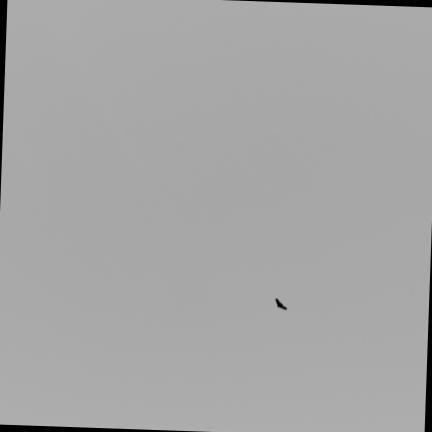Shahed: (276, 299, 286, 310)
